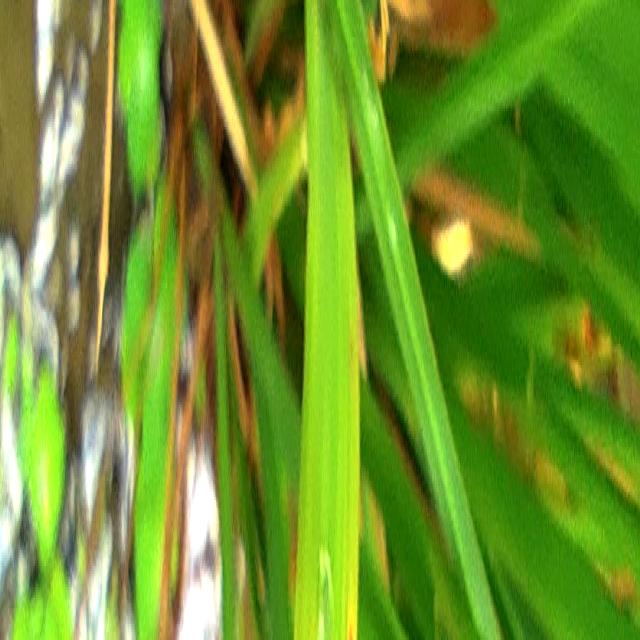NBS: (347, 309, 357, 388), (347, 600, 356, 640)
